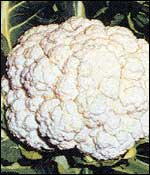cauliflower: (0, 1, 149, 174)
